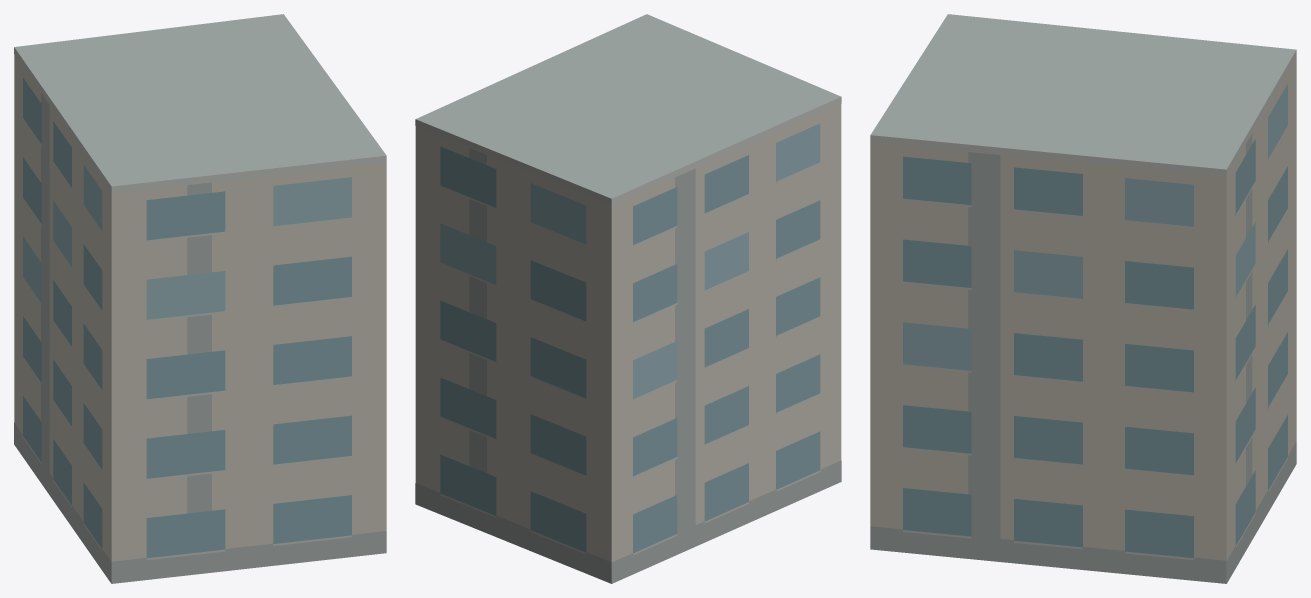
The model's file is survey-upis-32803021.glb.
3 renders of one model, left to right at view 1: azimuth 30°, elevation 25°; view 2: azimuth 150°, elevation 25°; view 3: azimuth 270°, elevation 25°, orthographic. The views are drawn at different scales.
Visible parts, largest first — view 1: survey-upis-32803021.tmp; view 2: survey-upis-32803021.tmp; view 3: survey-upis-32803021.tmp.
Part boxes in pixels (left/top/right/bottom): survey-upis-32803021.tmp: left=14, top=14, right=386, bottom=583; survey-upis-32803021.tmp: left=415, top=14, right=841, bottom=583; survey-upis-32803021.tmp: left=870, top=14, right=1296, bottom=583.
Bounding box in the file's own units: 10.96 × 13.6 × 12.69.
